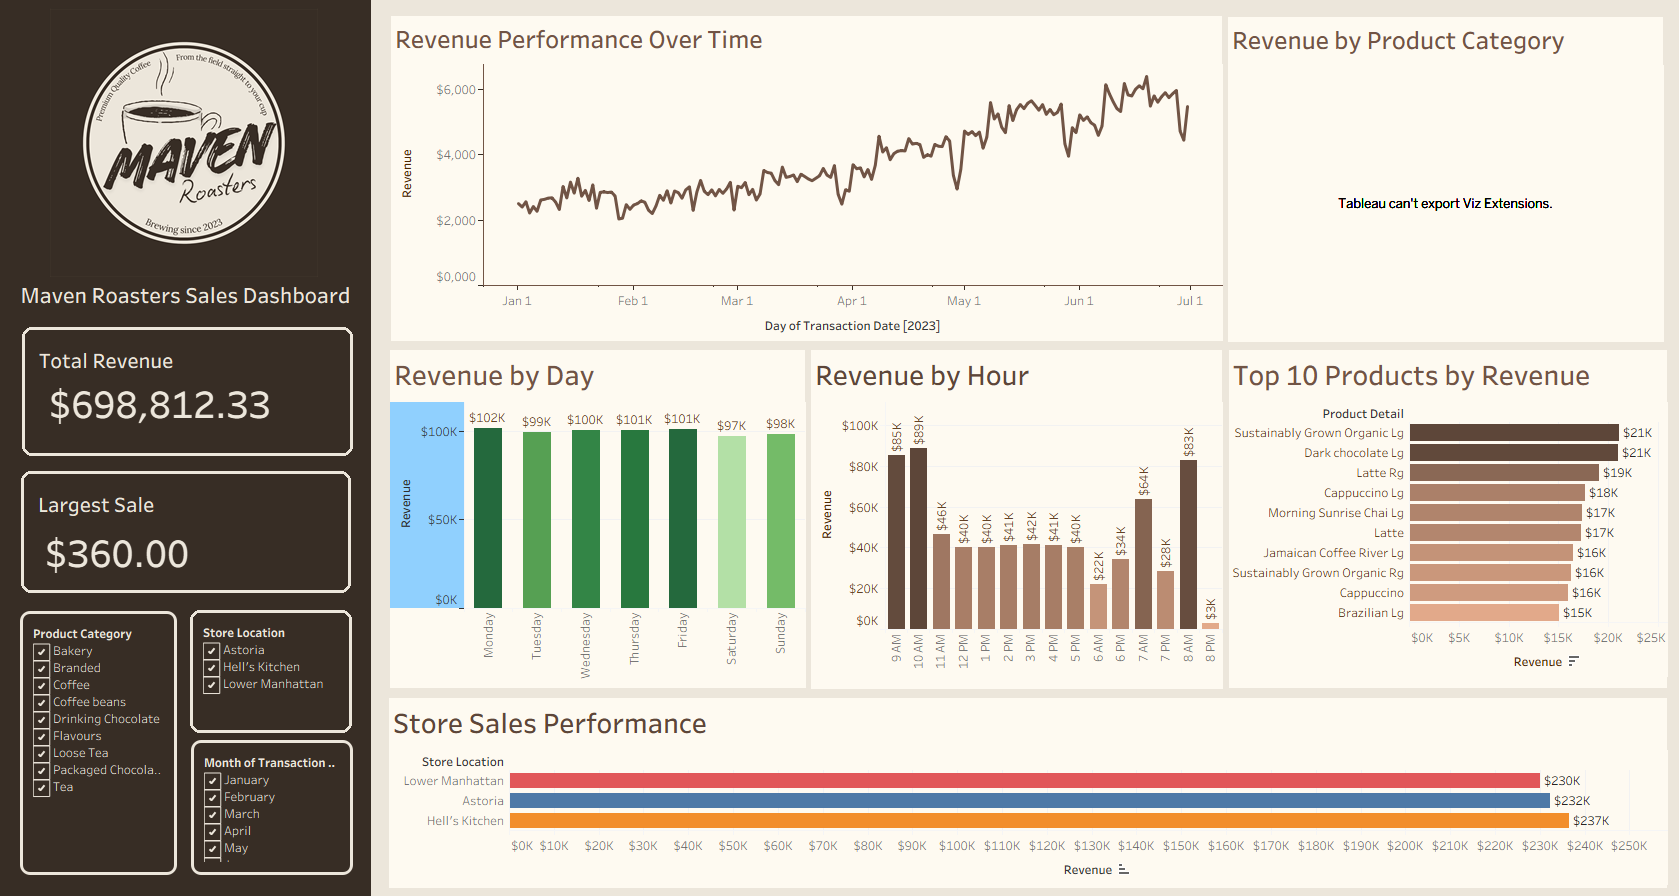

The page's visual inventory and layout, read from the dashboard file:
{"tool":"tableau","page":{"name":"Dashboard 1","canvas":[1000,1000],"units":"permille","ordinal":0},"visuals":[{"type":"image","param":"Image/Maven.png","box":[27.5,8.9,164.4,300.2]},{"type":"worksheet","title":"Sales Trend","mark":"Line","rows":["Calculation_0928264982306817"],"cols":["transaction_date"],"box":[232.9,17.9,495,362.7]},{"type":"worksheet","title":"Product Category Performance","box":[731.4,19,259.1,361.6]},{"type":"text","box":[2.3,301.3,216.5,54.7]},{"type":"worksheet","title":"Total Revenue","mark":"Automatic","box":[13.1,365,197.1,144]},{"type":"worksheet","title":"Sales by Day","mark":"Automatic","rows":["Calculation_0928264982306817"],"cols":["Calculation_0928264983171076"],"box":[232.3,390.6,247.2,377.2]},{"type":"worksheet","title":"Sales by Hour","mark":"Automatic","rows":["Calculation_0928264982306817"],"cols":["Calculation_0928264983535622"],"box":[483,390.6,244.8,378.4]},{"type":"worksheet","title":"Top Products","mark":"Automatic","rows":["product_detail"],"cols":["Calculation_0928264982306817"],"box":[732,390.6,260.9,377.2]},{"type":"worksheet","title":"Biggest Transaction","mark":"Automatic","box":[12.5,525.7,196.6,136.2]},{"type":"filter","title":"Sales Trend","param":"[federated.0cdrwby030my5t1abjwra05ptlo1].[none:store_location:nk]","box":[113.2,680.8,96.5,137.3]},{"type":"filter","title":"Sales by Day","param":"[federated.0cdrwby030my5t1abjwra05ptlo1].[none:product_category:nk]","box":[11.9,681.9,93.5,294.6]},{"type":"worksheet","title":"Store Performance","mark":"Bar","rows":["store_location"],"cols":["Calculation_0928264982306817"],"box":[231.7,779,761.2,212.1]},{"type":"filter","title":"Sales by Day","param":"[federated.0cdrwby030my5t1abjwra05ptlo1].[mn:transaction_date:ok]","box":[113.8,825.9,96.5,150.7]}]}

Visuals, with their boxes on the dashboard's canvas, which has no fixed pixel size, in thousandths of its width and height (x1, y1, x2, y2). These are canvas units, not pixel positions in the 1679x896 screenshot, which may show the page scaled, cropped or inside an application window:
image: x1=28, y1=9, x2=192, y2=309
"Sales Trend" worksheet (Line marks): x1=233, y1=18, x2=728, y2=381
"Product Category Performance" worksheet: x1=731, y1=19, x2=990, y2=381
text: x1=2, y1=301, x2=219, y2=356
"Total Revenue" worksheet: x1=13, y1=365, x2=210, y2=509
"Sales by Day" worksheet: x1=232, y1=391, x2=480, y2=768
"Sales by Hour" worksheet: x1=483, y1=391, x2=728, y2=769
"Top Products" worksheet: x1=732, y1=391, x2=993, y2=768
"Biggest Transaction" worksheet: x1=12, y1=526, x2=209, y2=662
"Sales Trend" filter: x1=113, y1=681, x2=210, y2=818
"Sales by Day" filter: x1=12, y1=682, x2=105, y2=976
"Store Performance" worksheet (Bar marks): x1=232, y1=779, x2=993, y2=991
"Sales by Day" filter: x1=114, y1=826, x2=210, y2=977
